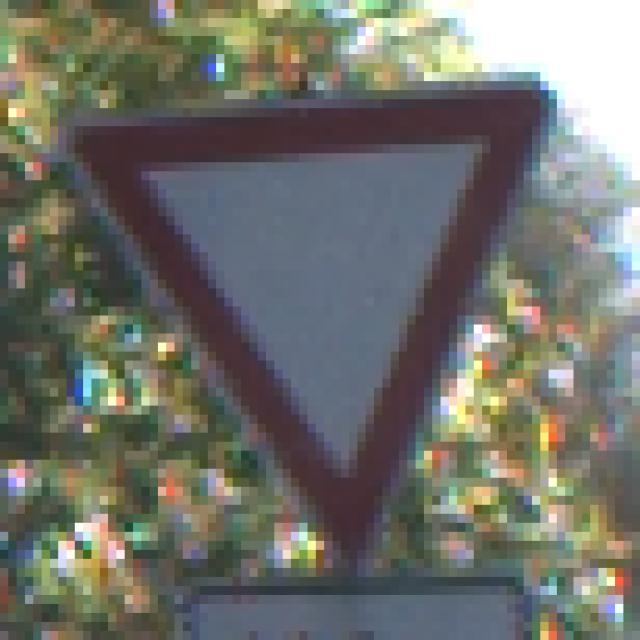Give Way: (59, 55, 591, 578)
